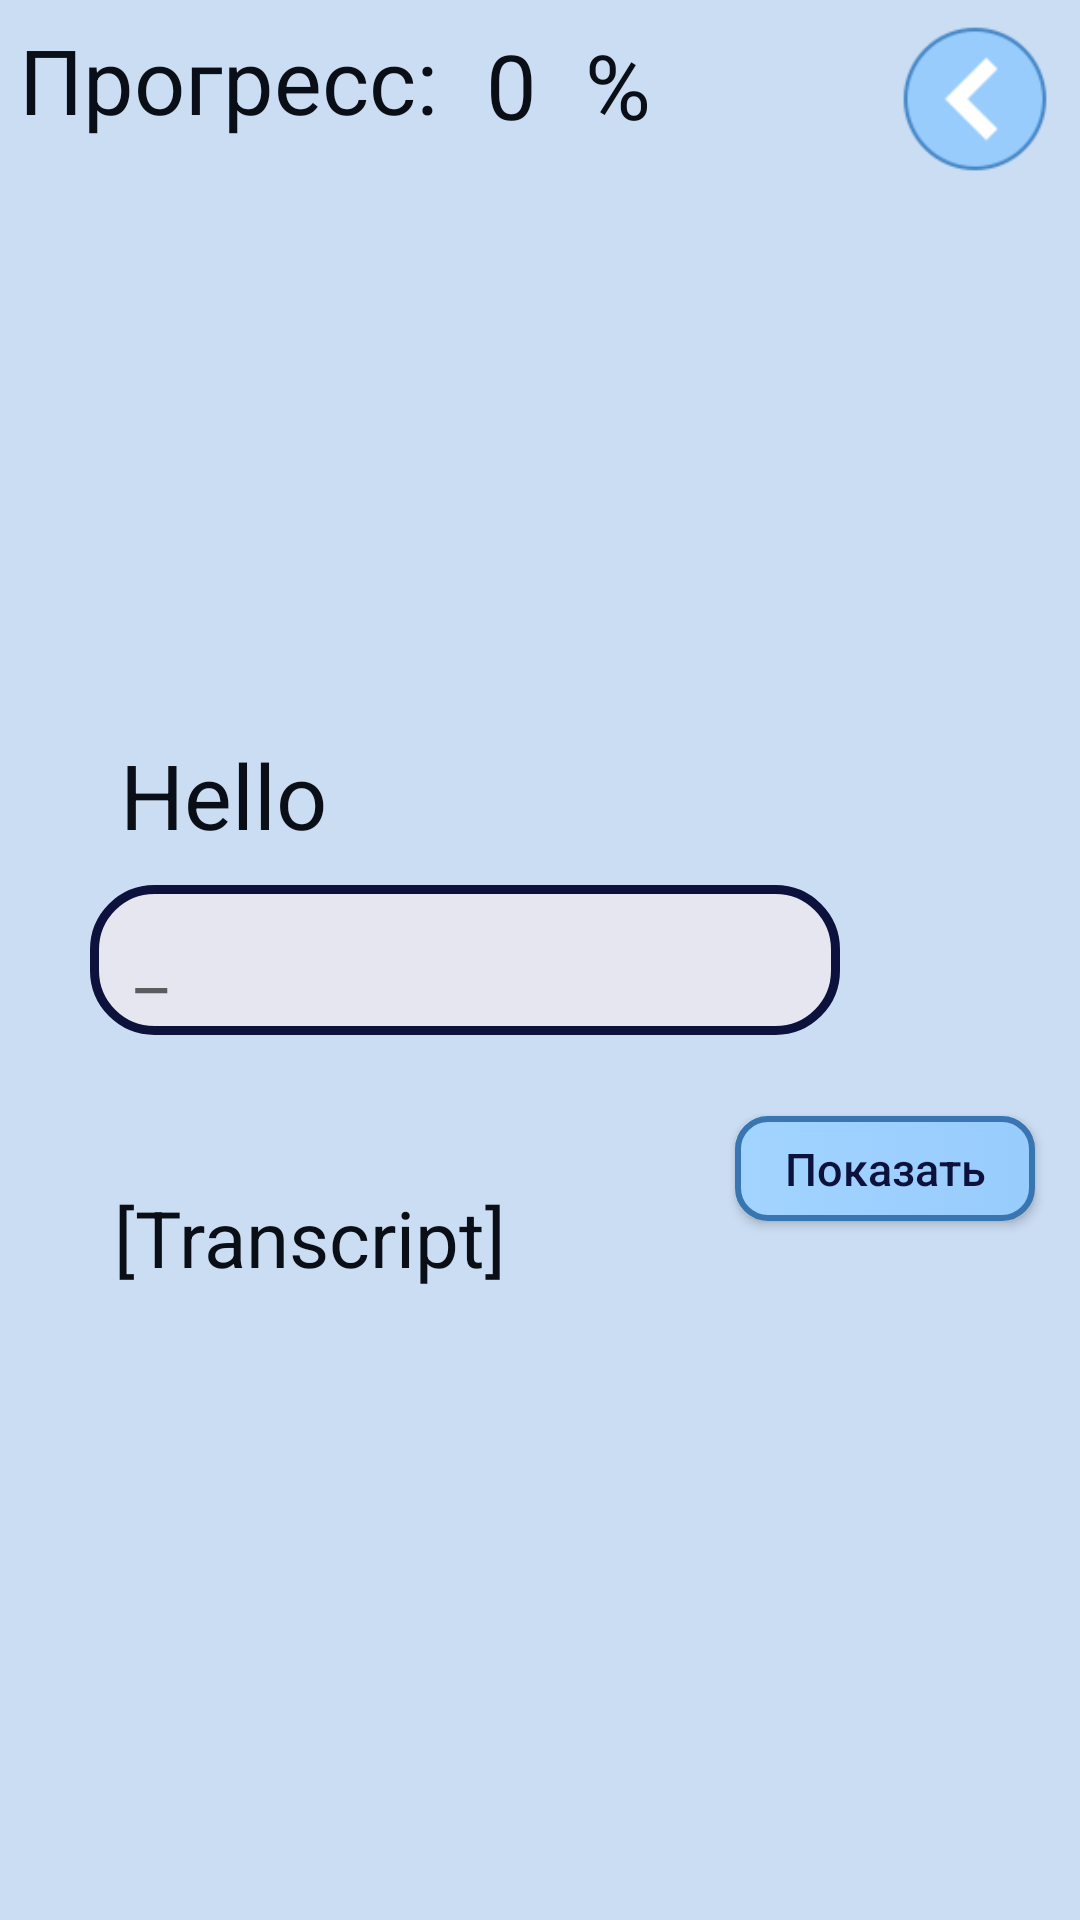

Icon click points for this 1080*1920 phone screenshot, format (x,y):
arrow menu: (975,99)
